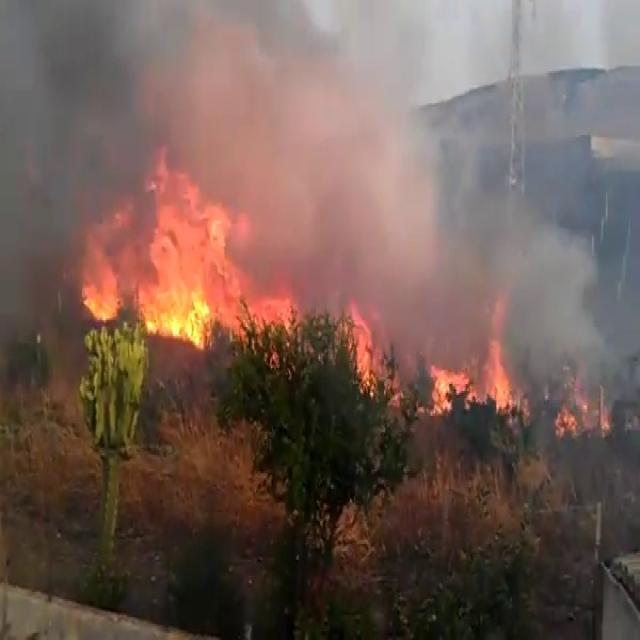Fire: (76, 144, 294, 350), (428, 321, 527, 424), (334, 284, 389, 406)
Smoke: (0, 0, 619, 361)
